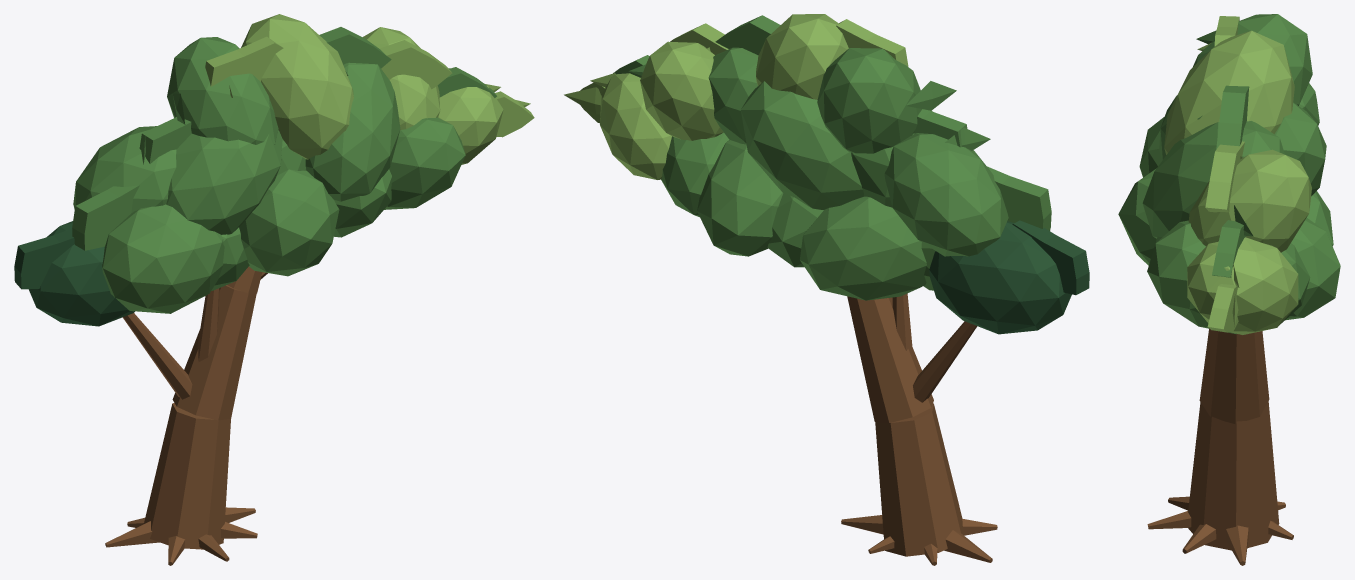
The picture shows the model from 3 angles, left to right: view 1: azimuth 30°, elevation 25°; view 2: azimuth 150°, elevation 25°; view 3: azimuth 270°, elevation 25°; orthographic projection. The views are drawn at different scales.
Visible parts, largest first — view 1: TerraCanopy.001, TerraTrunk, TerraCanopy.006, TerraLeafFan.001, TerraCanopy, TerraLeafFan.003, TerraLeafFan; view 2: TerraCanopy.001, TerraTrunk, TerraCanopy.006, TerraCanopy, TerraLeafFan.001, TerraLeafFan.003, TerraLeafFan; view 3: TerraCanopy.006, TerraCanopy.001, TerraTrunk, TerraLeafFan.003, TerraLeafFan.001.
Boxes of the visible parts, x1,y1,x2,y2 form: TerraCanopy.001: (73, 37, 465, 313); TerraTrunk: (105, 266, 267, 565); TerraCanopy.006: (241, 14, 503, 164); TerraLeafFan.001: (72, 27, 496, 250); TerraCanopy: (29, 221, 134, 326); TerraLeafFan.003: (205, 36, 534, 137); TerraLeafFan: (14, 228, 74, 289); TerraCanopy.001: (661, 47, 1050, 300); TerraTrunk: (841, 293, 997, 565); TerraCanopy.006: (600, 14, 848, 179); TerraCanopy: (929, 221, 1071, 334); TerraLeafFan.001: (613, 15, 1051, 230); TerraLeafFan.003: (564, 19, 908, 123); TerraLeafFan: (1012, 220, 1089, 295); TerraCanopy.006: (1164, 30, 1311, 334); TerraCanopy.001: (1118, 14, 1340, 334); TerraTrunk: (1147, 328, 1293, 565); TerraLeafFan.003: (1197, 16, 1244, 332); TerraLeafFan.001: (1196, 30, 1253, 277).
Bounding box in the file's own units: 7.95 × 7.35 × 2.68.
